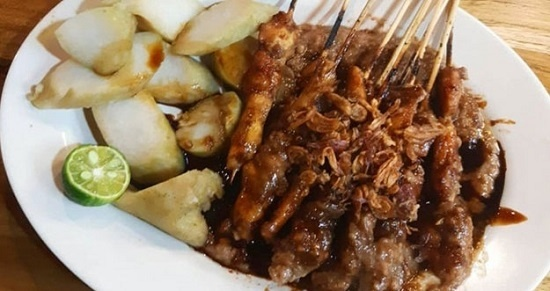sate_madura: (243, 1, 503, 289)
